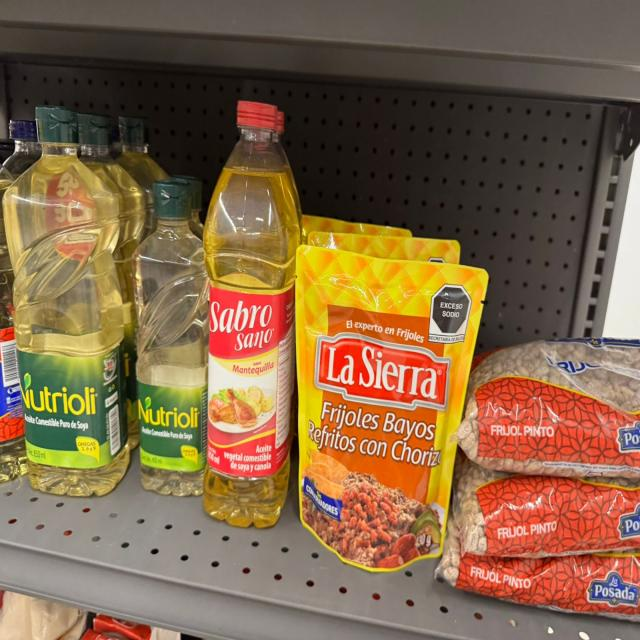ACEITE NUTRIOLI 400 ML: (135, 180, 209, 496), (179, 177, 203, 243)
ACEITE VEGETAL LA POSADA 800 ML: (0, 120, 37, 482)
Aceite Comestible Nutrioli 850ml: (3, 107, 124, 496), (79, 115, 145, 353), (118, 117, 168, 237)
Aceite Sabrosano 850ml: (204, 101, 301, 526), (204, 118, 301, 527)
Frijol La Sierra Chorizo 430 bolsa: (296, 246, 487, 571), (303, 216, 459, 263)
Frijol Pinto La Posada 900gr: (458, 339, 640, 477), (436, 512, 640, 619), (457, 376, 640, 477), (453, 463, 640, 558), (315, 333, 450, 409)
